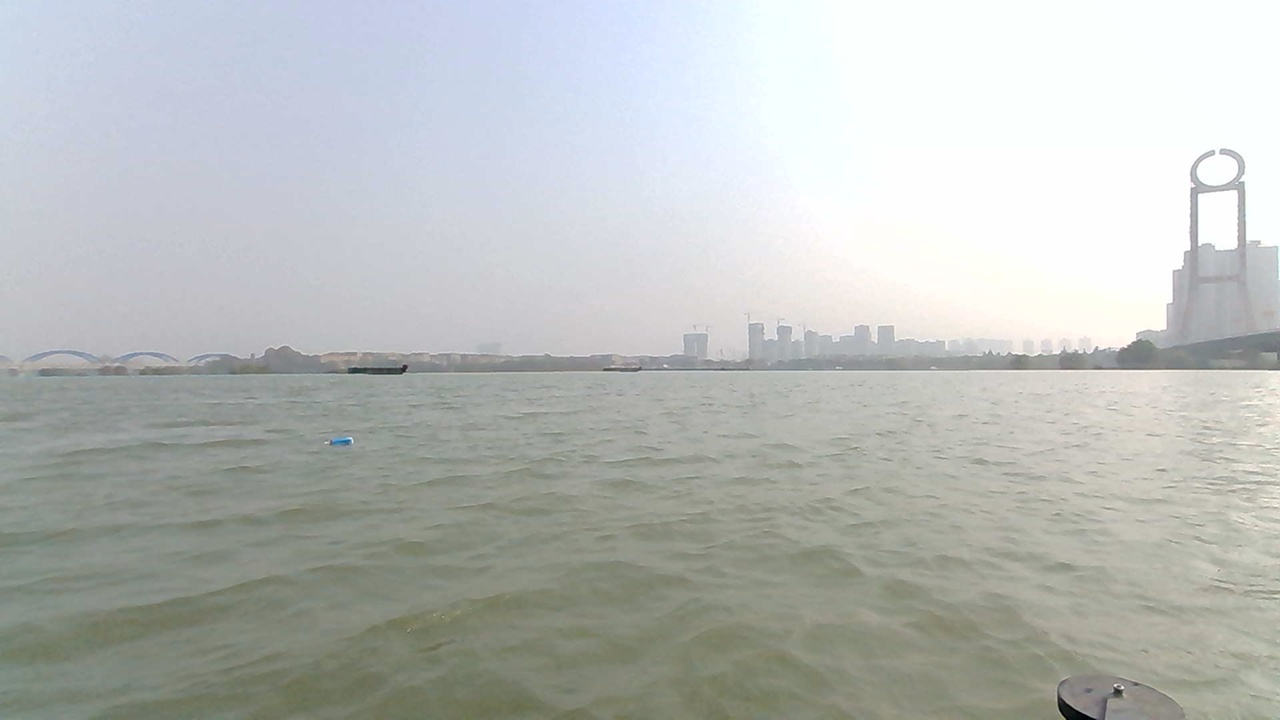bottle: (322, 433, 363, 453)
